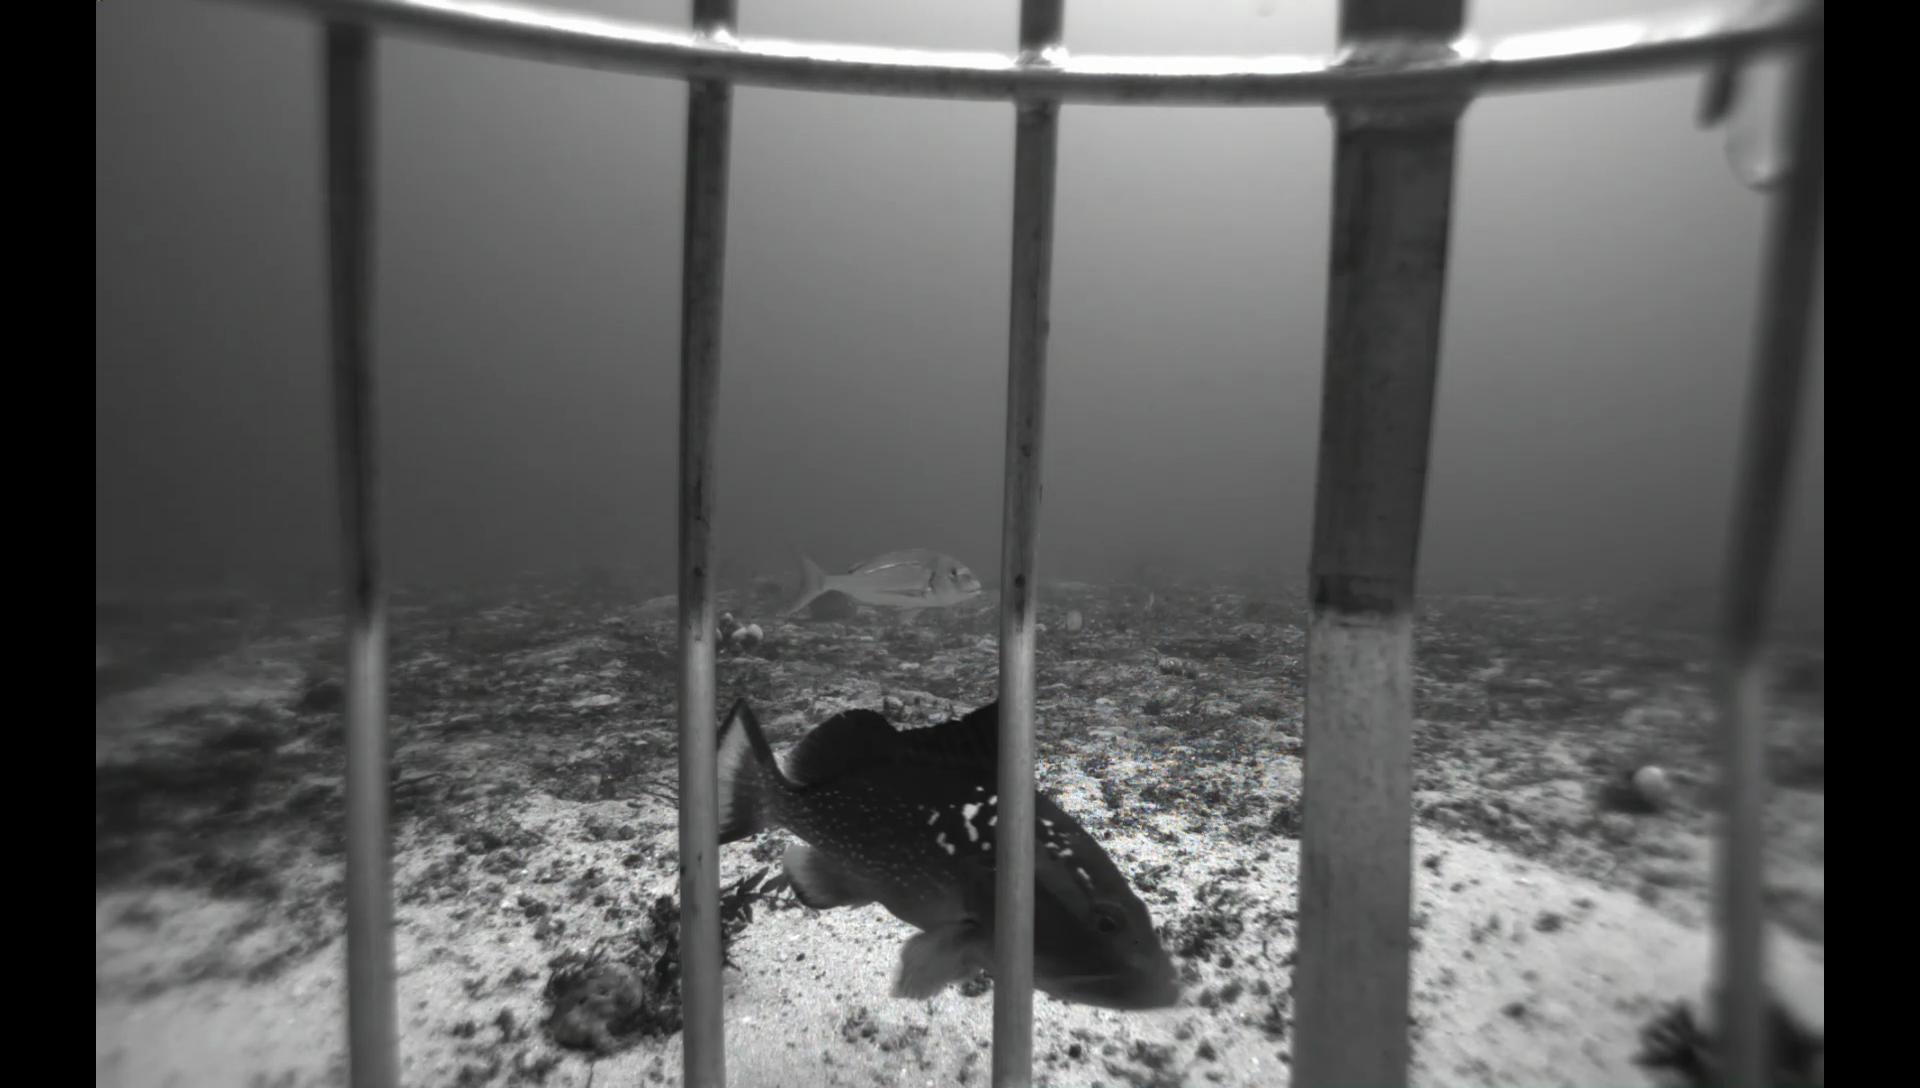CHAETODONOCELLATUS-170260307: (1052, 608, 1091, 636), (1141, 589, 1160, 613)
EPINEPHELUSMORIO-170021211: (711, 684, 1205, 1029)
HALICHOERESBIVITTATUS-170281202: (301, 655, 322, 684)
PAGRUSPAGRUS-170212302: (774, 528, 986, 628)
PRISTIGENYSALTA-170050401: (299, 678, 347, 717)
